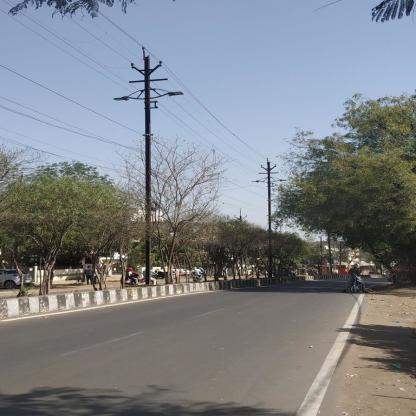Electrical Pole: (111, 43, 185, 287)
